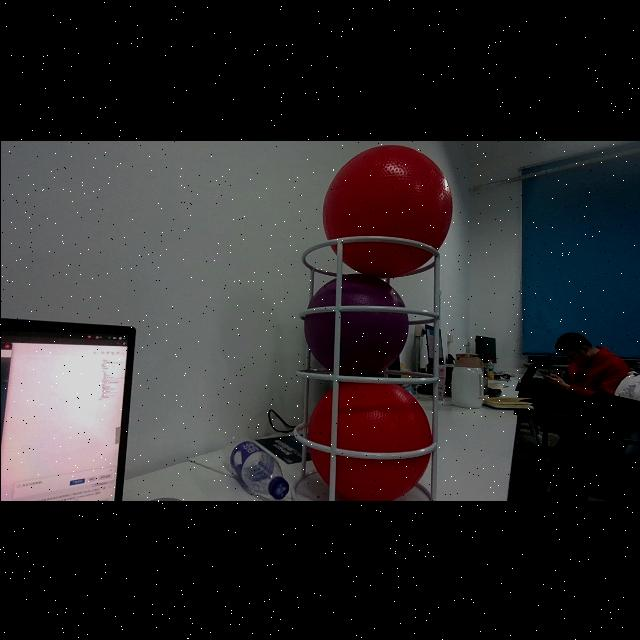P: (304, 272, 408, 376)
R: (318, 142, 449, 276), (304, 376, 430, 499)
S: (293, 231, 465, 499)
